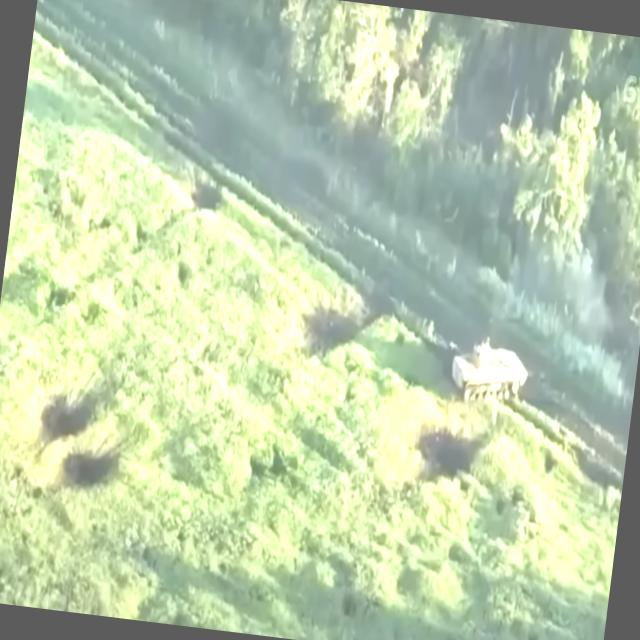AIFV: (446, 327, 535, 416)
